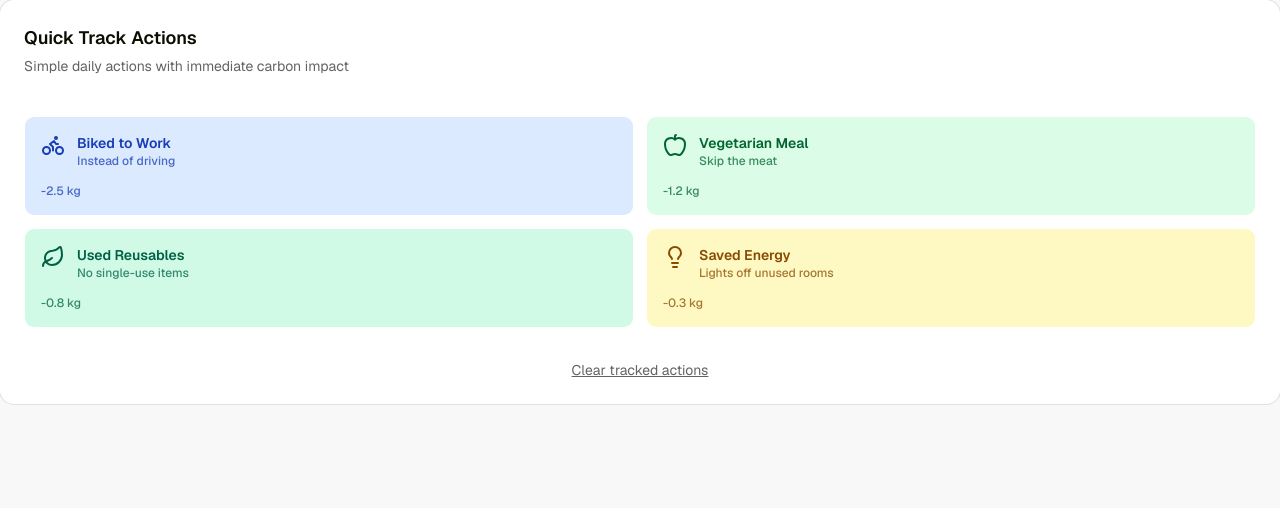
Scenario: QuickTrack Component › clears tracked actions when clear button is clicked
What coordinates should you click on to do the following:
click the button labelled "Biked to Work Instead of driving -2.5 kg"
I would click on:
 (124, 143)
Its box is [24, 116, 634, 216].
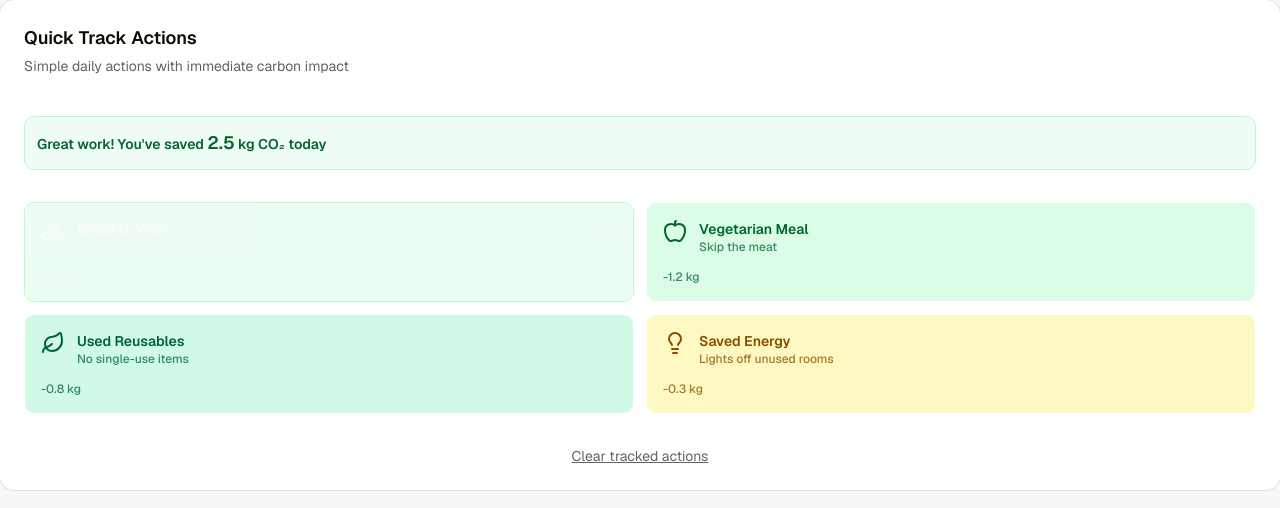
Now the message "Great work! You've saved 2.5 kg CO₂ today" is shown, box [24, 116, 1256, 170]
What coordinates should you click on to do the following:
click the button with aria-label "clear all tracked actions"
I would click on:
 (640, 456)
Its box is [24, 446, 1256, 466].
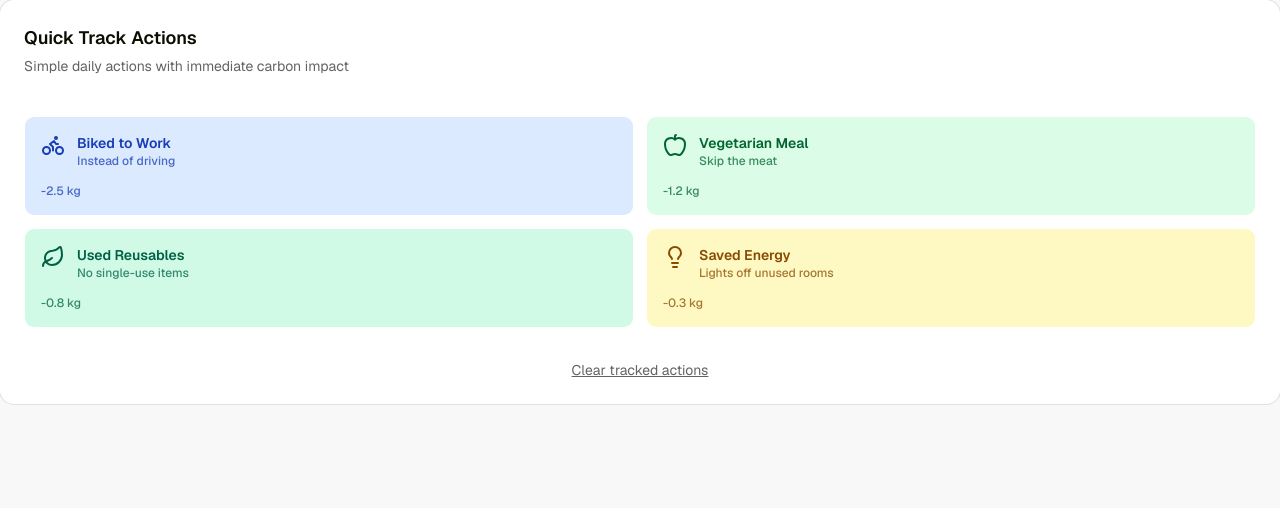
Now the message "Great work! You've saved 2.5 kg CO₂ today" is gone
